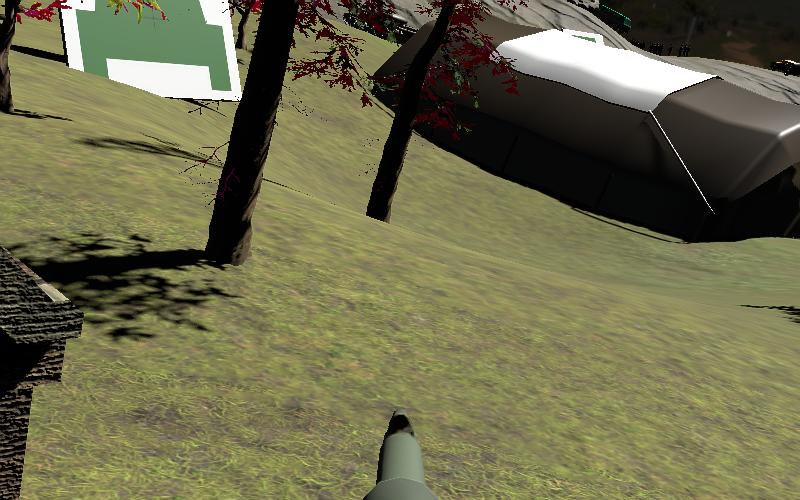car: (767, 55, 800, 84)
